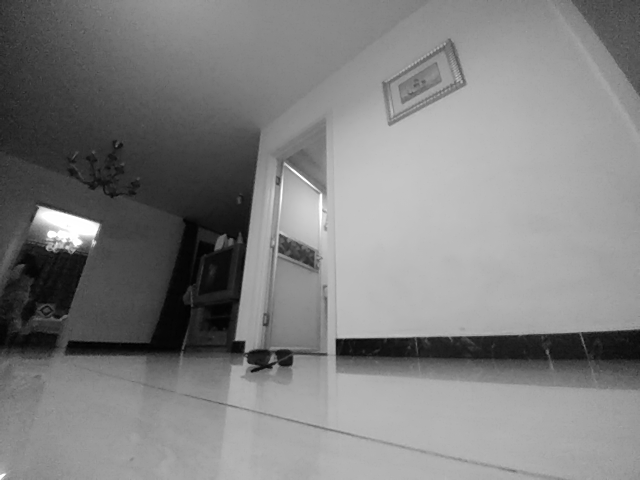curtain: (149, 217, 199, 353)
others: (245, 348, 296, 372)
